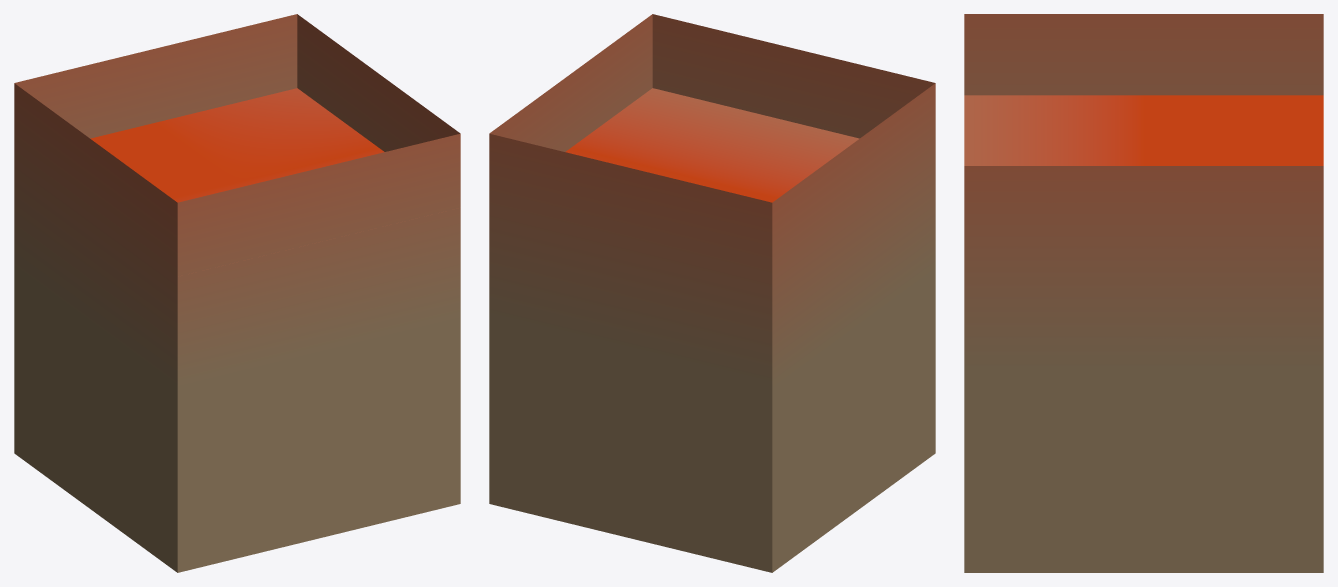
Rendered from cup_red.obj.
3 renders of one model, left to right at view 1: azimuth 30°, elevation 25°; view 2: azimuth 150°, elevation 25°; view 3: azimuth 270°, elevation 25°, orthographic. The views are drawn at different scales.
Visible parts, largest first — view 1: Default; view 2: Default; view 3: Default.
Part boxes in pixels (x1,y1,x2,y2): Default: [14, 14, 460, 572]; Default: [489, 14, 935, 572]; Default: [964, 14, 1323, 572].
Bounding box in the file's own units: 0.1 × 0.125 × 0.1.
